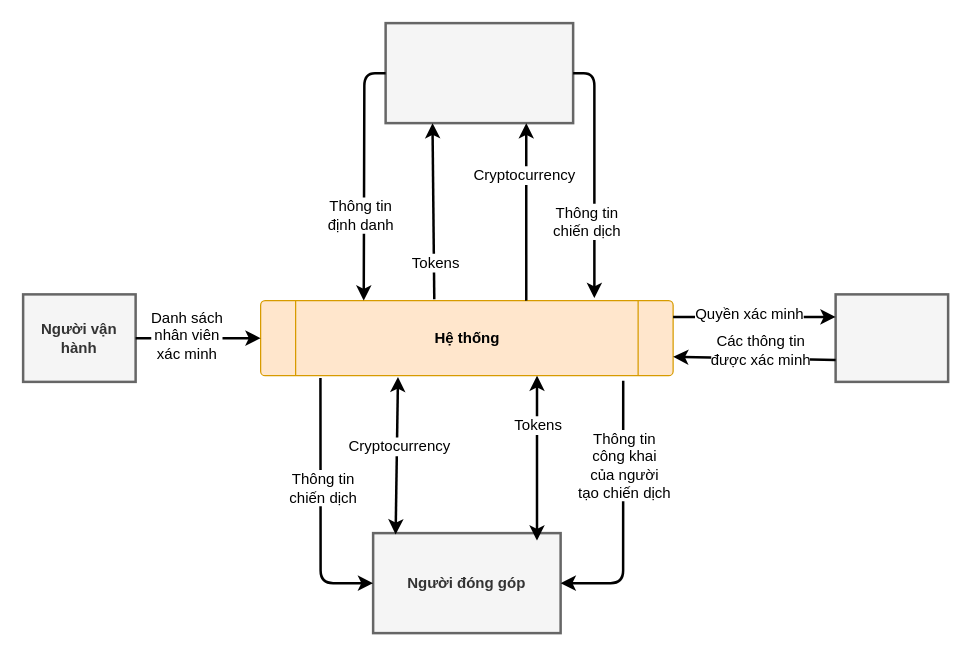
The diagram is 970 pixels wide and 655 high, and some of its shapes have lost their labels. Here are the shapes that lost their labels. From the top down, the box of each, then its label:
(384, 21, 574, 124): Người tạo chiến dịch
(834, 292, 949, 382): Nhân viên xác minh
